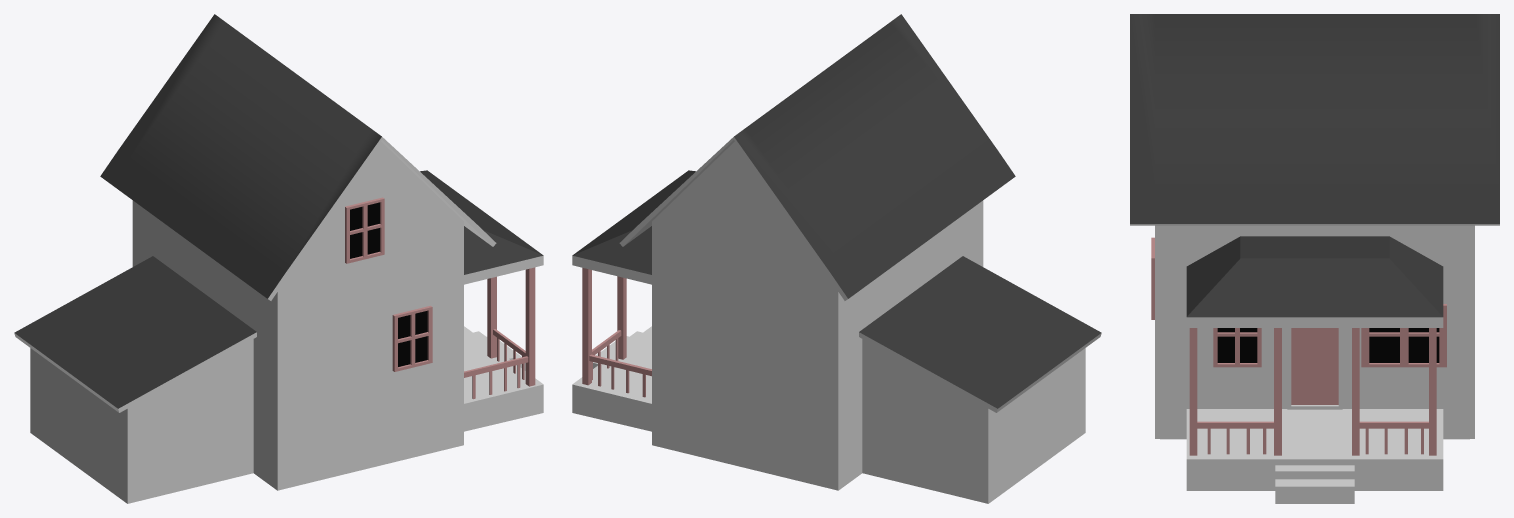
The model's file is grandmasHouse.fbx.
The picture shows the model from 3 angles, left to right: view 1: azimuth 30°, elevation 25°; view 2: azimuth 150°, elevation 25°; view 3: azimuth 270°, elevation 25°; orthographic projection. The views are drawn at different scales.
Visible parts, largest first — view 1: pCube44; view 2: pCube44; view 3: pCube44.
Part boxes in pixels (left/top/right/bottom): pCube44: left=14, top=14, right=543, bottom=503; pCube44: left=572, top=14, right=1101, bottom=503; pCube44: left=1130, top=14, right=1499, bottom=503.
Bounding box in the file's own units: 29.49 × 21.61 × 19.26.
